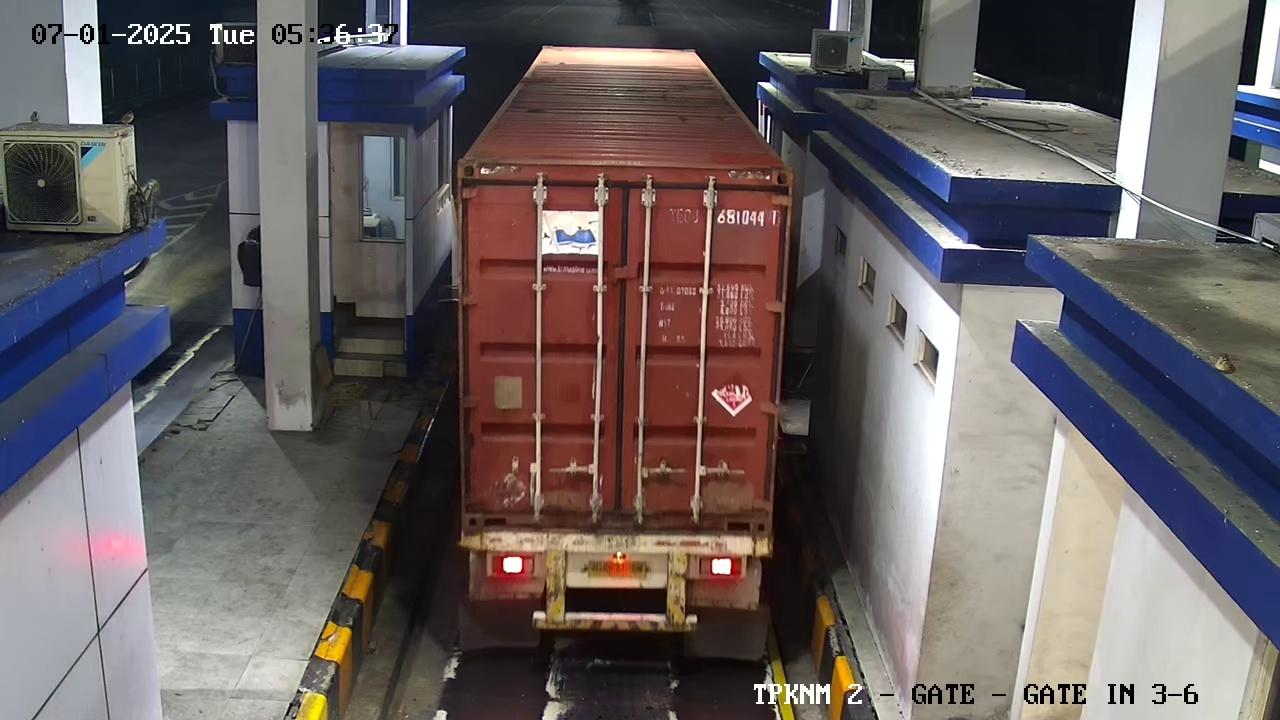Container_ID: (657, 198, 786, 238)
